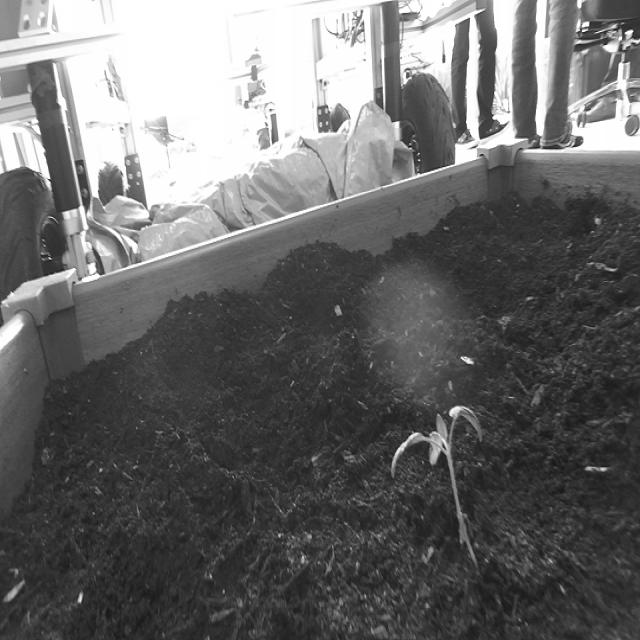Healthy: (382, 386, 500, 600)
